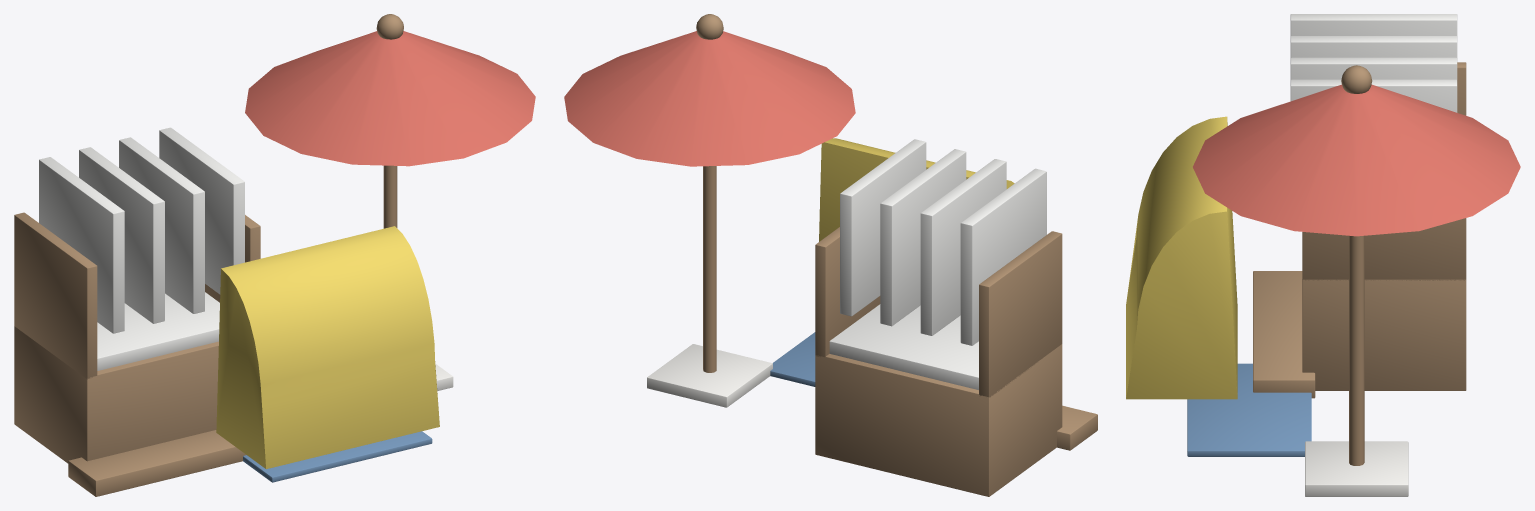
File: th45_strandkorb.glb
3 views of the same model, side by side, from view 1: azimuth 30°, elevation 25°; view 2: azimuth 150°, elevation 25°; view 3: azimuth 270°, elevation 25° (orthographic). The views are drawn at different scales.
Visible parts, largest first — view 1: Haube, Cone, Cube, Cube.002, Cube.004, Cube.005, Cube.006, Cube.007, Cube.008, Cube.001, Cube.018, Cylinder (+2 smaller); view 2: Cone, Cube, Cube.002, Cube.004, Cube.007, Cube.005, Cube.006, Cube.001, Cube.017, Haube, Cube.003, Cylinder (+3 smaller); view 3: Cone, Haube, Cube, Cube.018, Cube.003, Cube.008, Cube.017, Cube.004, Cube.005, Cylinder, Cube.006, Cube.007 (+2 smaller).
Boxes of the visible parts, box(x1,y1,x2,y2) form: Haube: box(216, 226, 439, 469); Cone: box(245, 31, 535, 166); Cube: box(14, 326, 218, 463); Cube.002: box(14, 212, 97, 379); Cube.004: box(39, 157, 124, 333); Cube.005: box(79, 147, 164, 323); Cube.006: box(119, 137, 204, 313); Cube.007: box(159, 127, 244, 294); Cube.008: box(68, 430, 245, 496); Cube.001: box(97, 292, 219, 370); Cube.018: box(243, 431, 432, 482); Cylinder: box(383, 165, 397, 228); Cone: box(564, 31, 855, 166); Cube: box(815, 344, 1062, 496); Cube.002: box(979, 231, 1062, 397); Cube.004: box(960, 168, 1046, 345); Cube.007: box(840, 139, 926, 316); Cube.005: box(920, 159, 1006, 335); Cube.006: box(880, 149, 966, 326); Cube.001: box(829, 304, 978, 389); Cube.017: box(647, 344, 772, 407); Haube: box(819, 138, 1014, 241); Cube.003: box(815, 227, 880, 357); Cylinder: box(703, 166, 716, 372); Cone: box(1193, 84, 1520, 236); Haube: box(1126, 116, 1237, 399); Cube: box(1302, 279, 1466, 390); Cube.018: box(1187, 363, 1311, 456); Cube.003: box(1302, 218, 1466, 280); Cube.008: box(1253, 271, 1315, 398); Cube.017: box(1305, 441, 1408, 496); Cube.004: box(1290, 14, 1457, 35); Cube.005: box(1290, 36, 1457, 57); Cylinder: box(1349, 235, 1364, 465); Cube.006: box(1290, 57, 1457, 79); Cube.007: box(1290, 79, 1457, 112).
Bounding box in the file's own units: 3.5 × 2.61 × 2.28.
